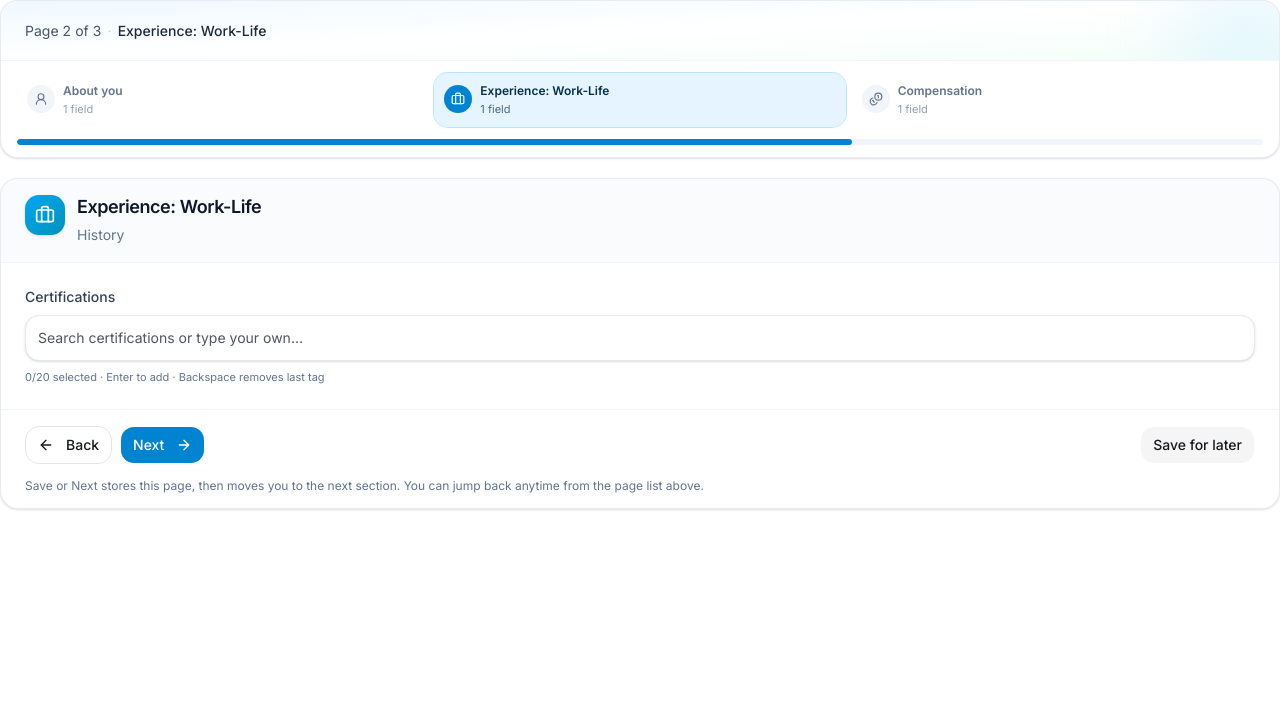
CandidateProfileForm wizard › saves then moves to the next page after Save for later during onboarding
Check: the heading "Experience: Work-Life" is shown, box [77,196,261,217]
Click the button "Save for later": click(1198, 445) [1140,426,1255,464]
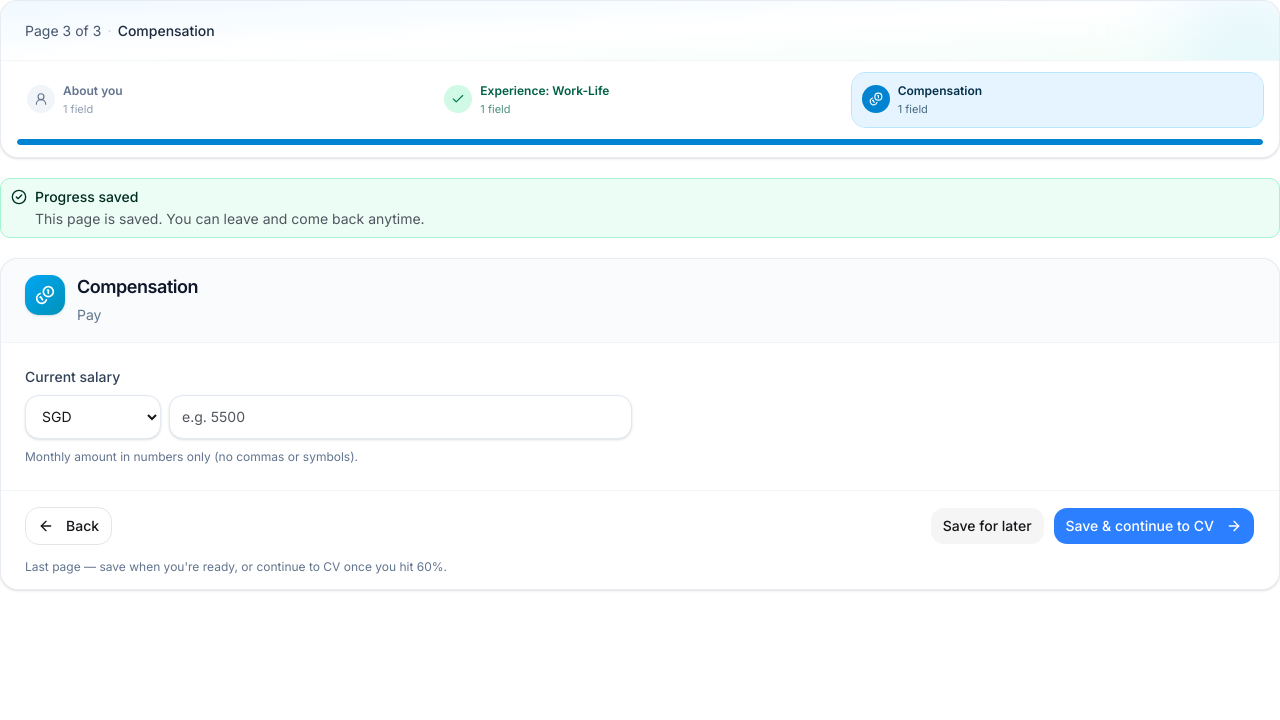
Check: the heading "Compensation" is shown, box [77,276,198,297]
